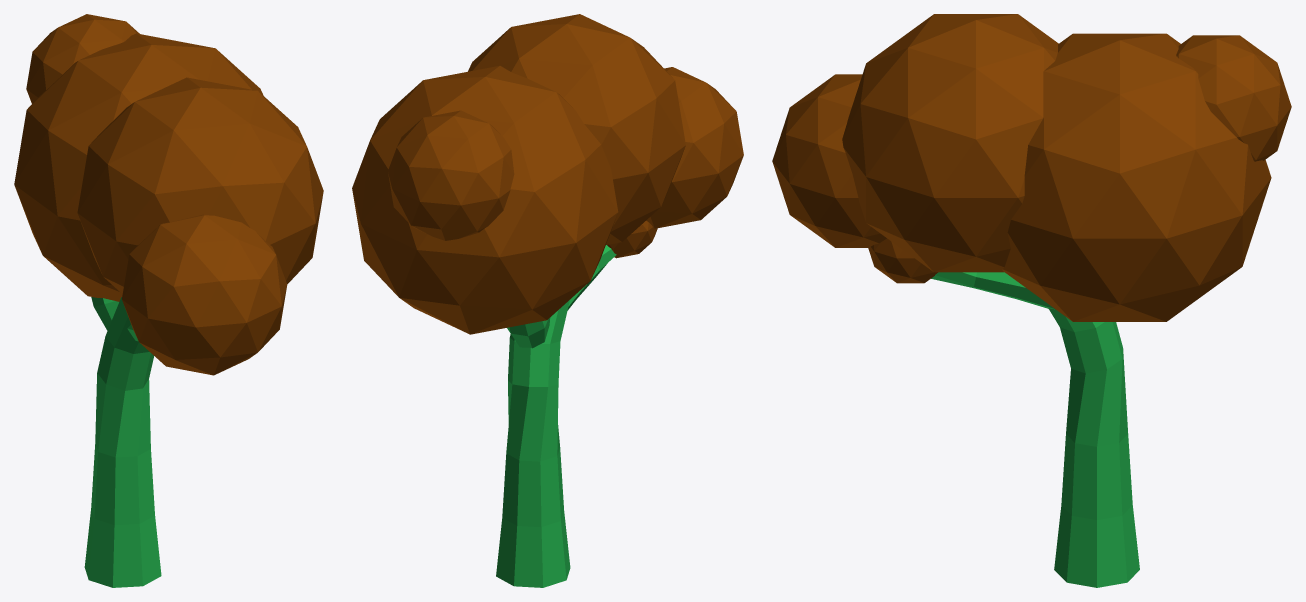
File: Tree1 (3).fbx
3 renders of one model, left to right at view 1: azimuth 30°, elevation 25°; view 2: azimuth 150°, elevation 25°; view 3: azimuth 270°, elevation 25°, orthographic. The views are drawn at different scales.
Visible parts, largest first — view 1: Tree1__3_; view 2: Tree1__3_; view 3: Tree1__3_.
Boxes of the visible parts, x1,y1,x2,y2 form: Tree1__3_: [14, 14, 323, 587]; Tree1__3_: [352, 14, 743, 587]; Tree1__3_: [772, 14, 1291, 587].
Bounding box in the file's own units: 268 × 531 × 445.
